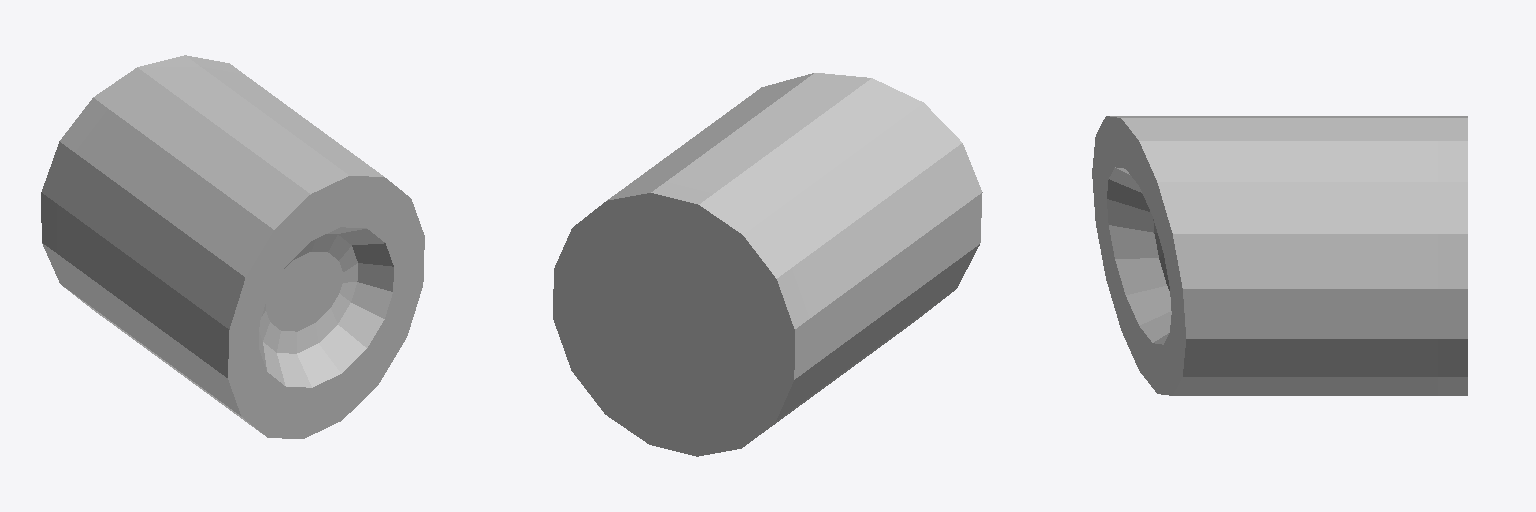
File: Candle3.obj
3 renders of one model, left to right at view 1: azimuth 30°, elevation 25°; view 2: azimuth 150°, elevation 25°; view 3: azimuth 270°, elevation 25°, orthographic.
Parts seen in each view (by area): view 1: Candle3_Cylinder.002; view 2: Candle3_Cylinder.002; view 3: Candle3_Cylinder.002.
Boxes of the visible parts, x1=… form: Candle3_Cylinder.002: x1=41, y1=55, x2=424, y2=438; Candle3_Cylinder.002: x1=553, y1=73, x2=982, y2=456; Candle3_Cylinder.002: x1=1092, y1=116, x2=1467, y2=395.
Bounding box in the file's own units: 0.2806 × 0.2806 × 0.3784.